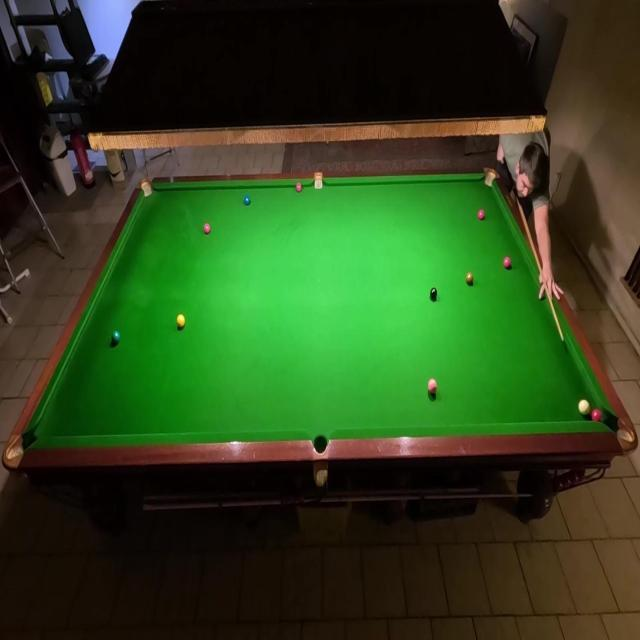Ball: (578, 400, 590, 416), (591, 408, 603, 423), (428, 378, 438, 395), (111, 330, 120, 346), (177, 314, 186, 328), (503, 256, 511, 270), (430, 287, 438, 301), (466, 272, 474, 285), (478, 208, 484, 222), (203, 222, 210, 234), (296, 182, 302, 193), (244, 195, 250, 205)
